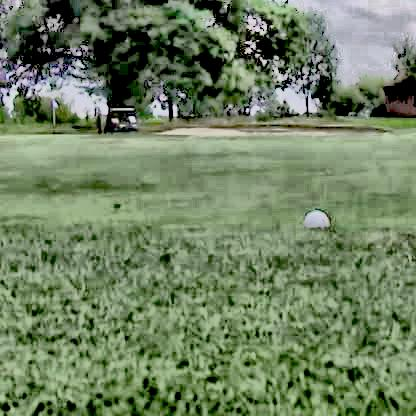golfball: (301, 208, 326, 232)
